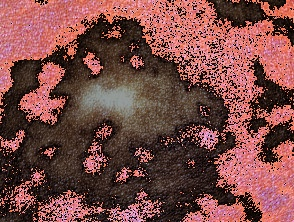vitiligo: (0, 13, 294, 222)
